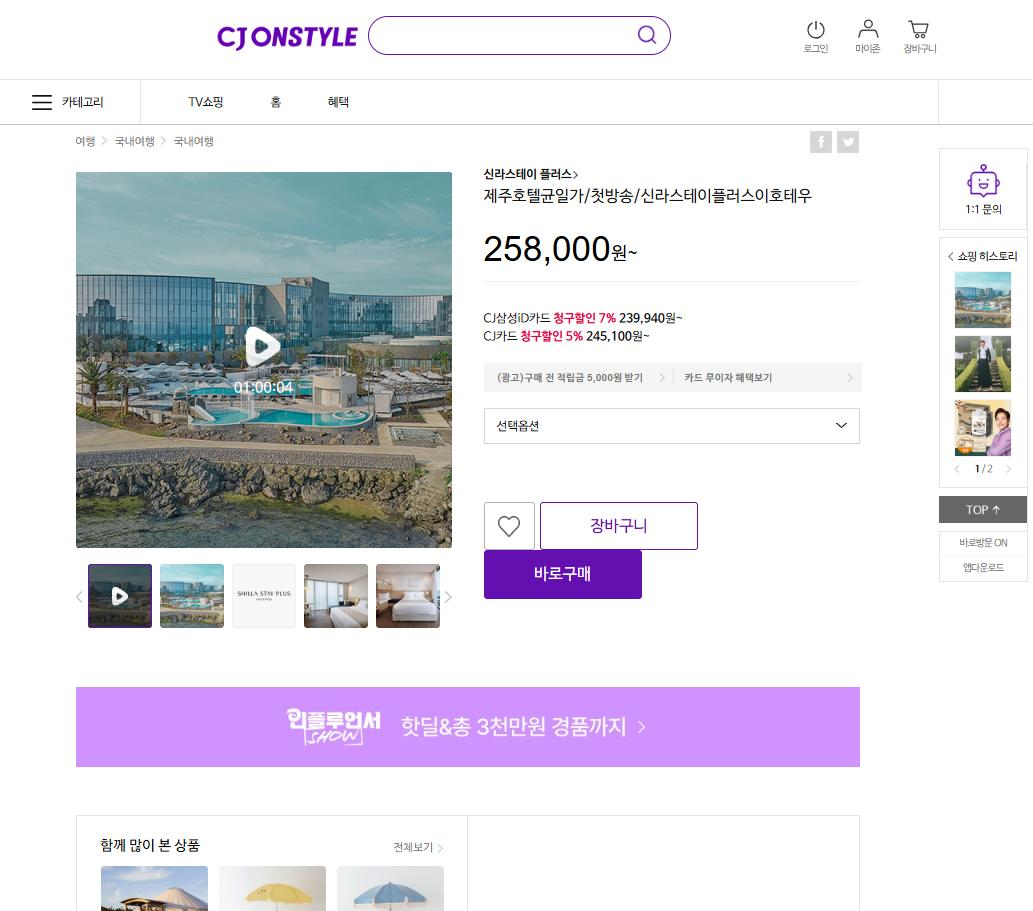button: (75, 685, 856, 770), (537, 501, 702, 549), (485, 551, 645, 596), (943, 156, 1024, 224), (376, 560, 438, 621), (304, 568, 369, 626), (233, 568, 299, 624), (160, 566, 222, 625), (90, 561, 151, 620), (954, 272, 1011, 330), (955, 401, 1011, 459), (954, 335, 1013, 389), (26, 85, 118, 119), (940, 495, 1028, 521), (484, 502, 533, 548), (940, 533, 1030, 556), (848, 15, 891, 60), (902, 10, 940, 60), (939, 559, 1026, 579), (188, 94, 236, 121), (798, 19, 831, 58), (391, 831, 441, 854), (324, 95, 371, 116), (261, 96, 299, 119), (811, 134, 836, 151), (842, 136, 858, 151)
checkbox: (484, 409, 859, 441)
input_field: (369, 18, 670, 52)
